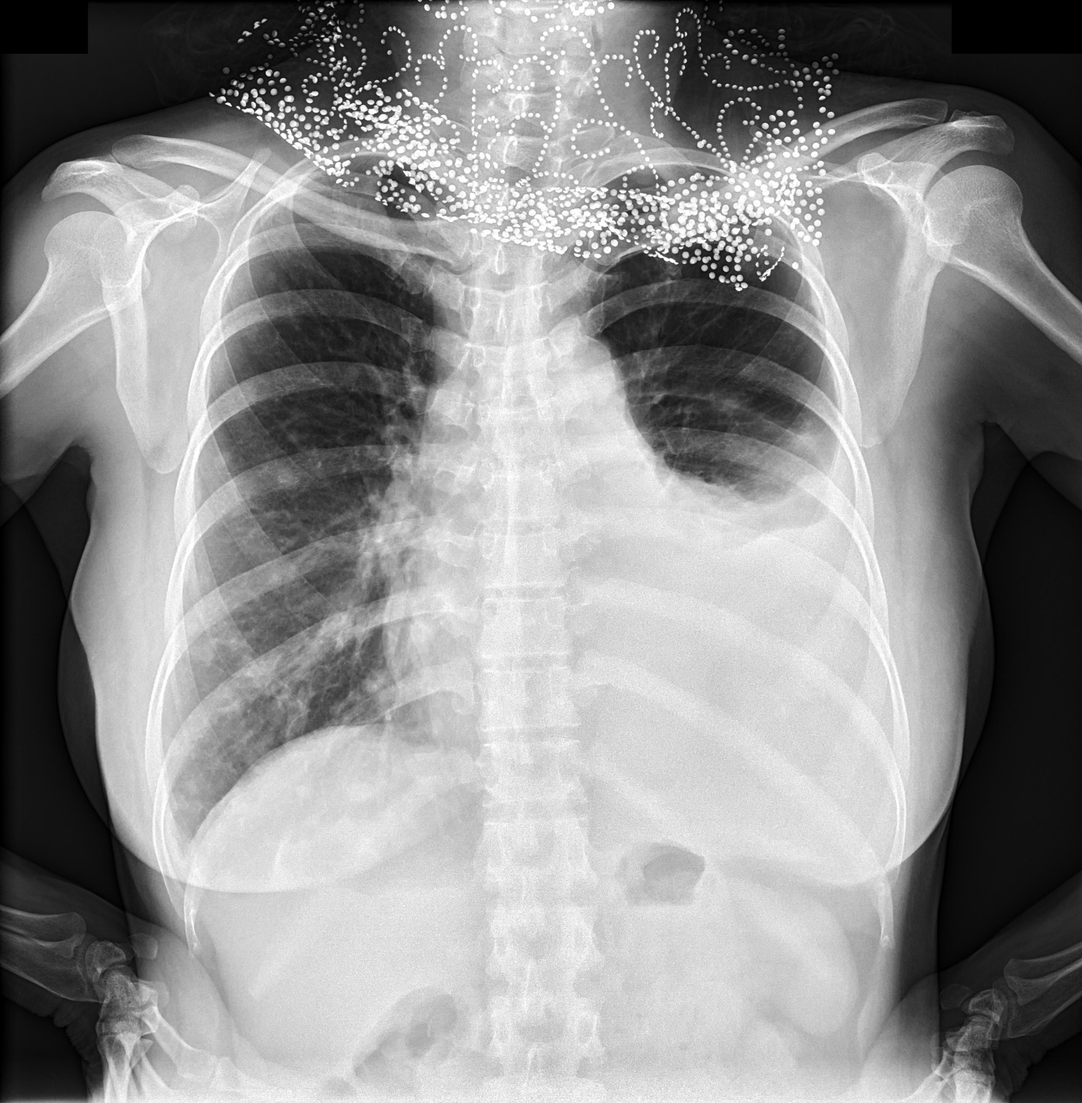Aortic enlargement: (520, 333, 632, 426)
Pleural thickening: (161, 797, 195, 897)
Pulmonary fibrosis: (625, 332, 813, 439)
